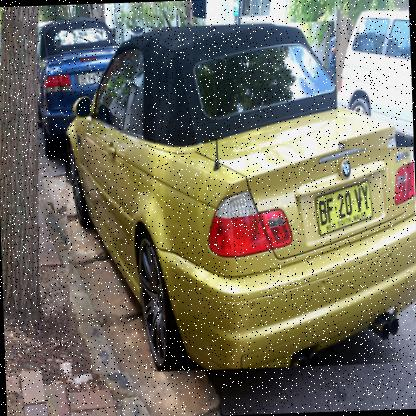Car: (61, 18, 415, 376), (32, 17, 122, 152), (334, 7, 414, 151)
